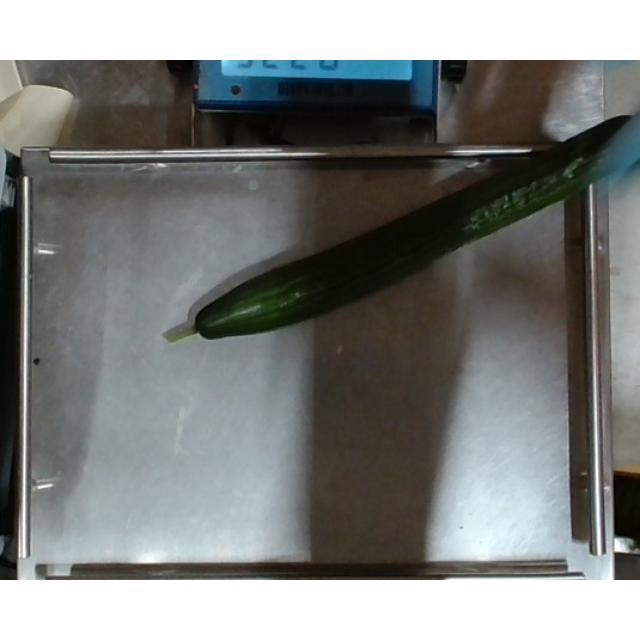cucumber: (164, 111, 640, 345)
